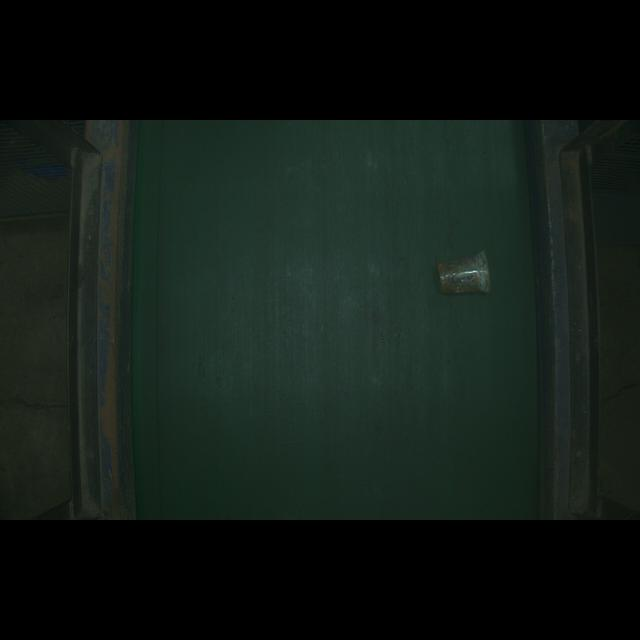Rigid: (428, 244, 499, 306)
